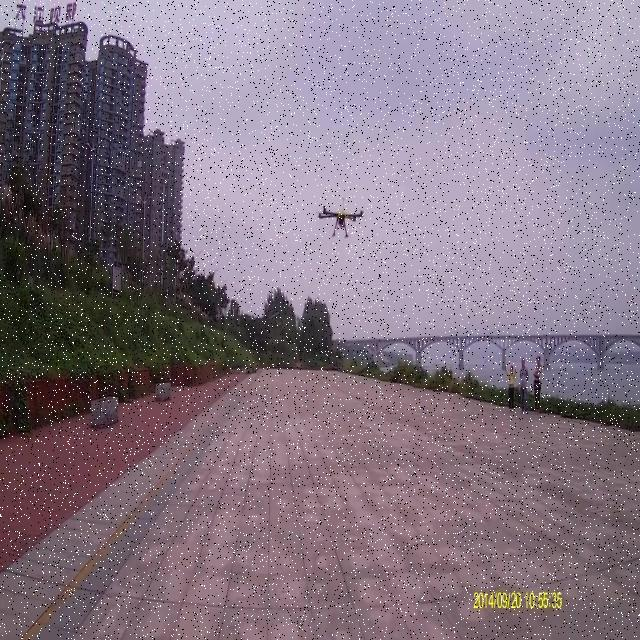UAV: (319, 193, 363, 239)
